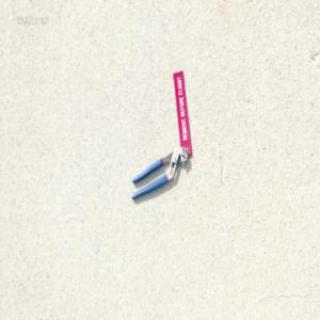LuggageTagtrack_idkeyframe: (172, 69, 192, 156)
Pliertrack_idkeyframe: (129, 144, 188, 202)
